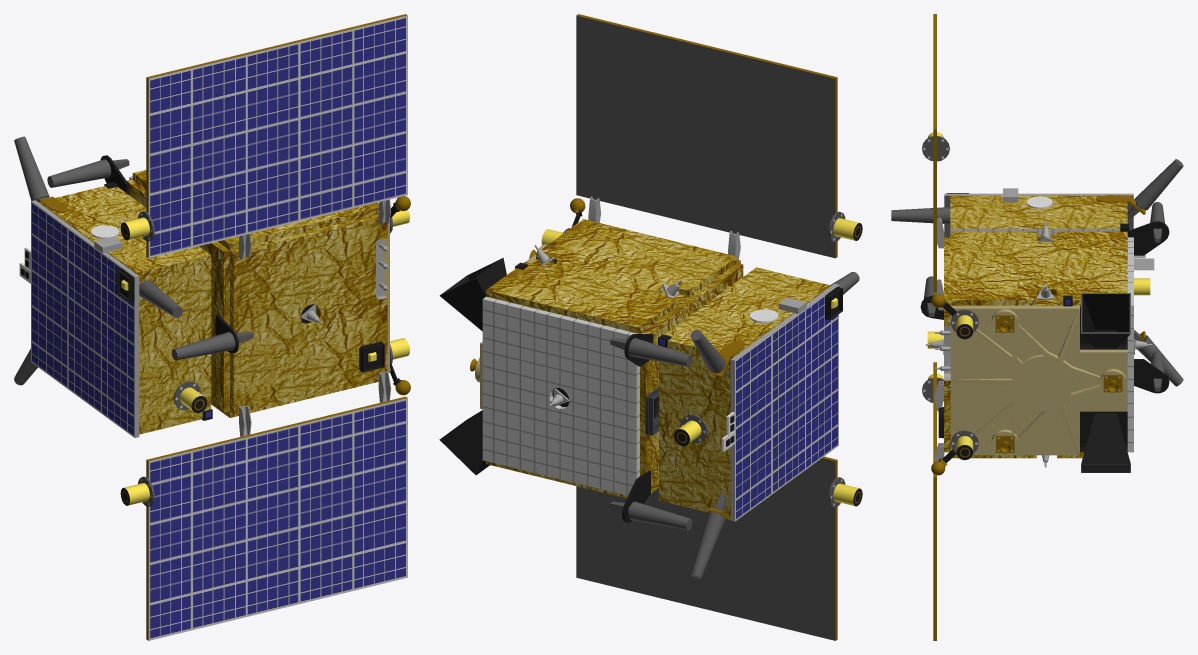
The model's file is tango 1.fbx.
The picture shows the model from 3 angles, left to right: view 1: azimuth 30°, elevation 25°; view 2: azimuth 150°, elevation 25°; view 3: azimuth 270°, elevation 25°; orthographic projection. The views are drawn at different scales.
Parts seen in each view (by area): view 1: Panel2, Panel1, Mango, Tango; view 2: Mango, Panel1, Tango, Panel2; view 3: Mango, Tango, Panel1, Panel2.
Boxes of the visible parts, box(x1,y1,x2,y2) form: Panel2: box(120, 396, 407, 640); Panel1: box(120, 14, 407, 258); Mango: box(47, 155, 410, 436); Tango: box(14, 136, 212, 437); Mango: box(439, 196, 743, 530); Panel1: box(576, 14, 862, 258); Tango: box(658, 267, 859, 578); Panel2: box(576, 456, 862, 640); Mango: box(920, 202, 1169, 475); Tango: box(891, 159, 1183, 386); Panel1: box(922, 14, 949, 292); Panel2: box(922, 362, 943, 640).
Bounding box in the file's own units: 150 × 259 × 134.
